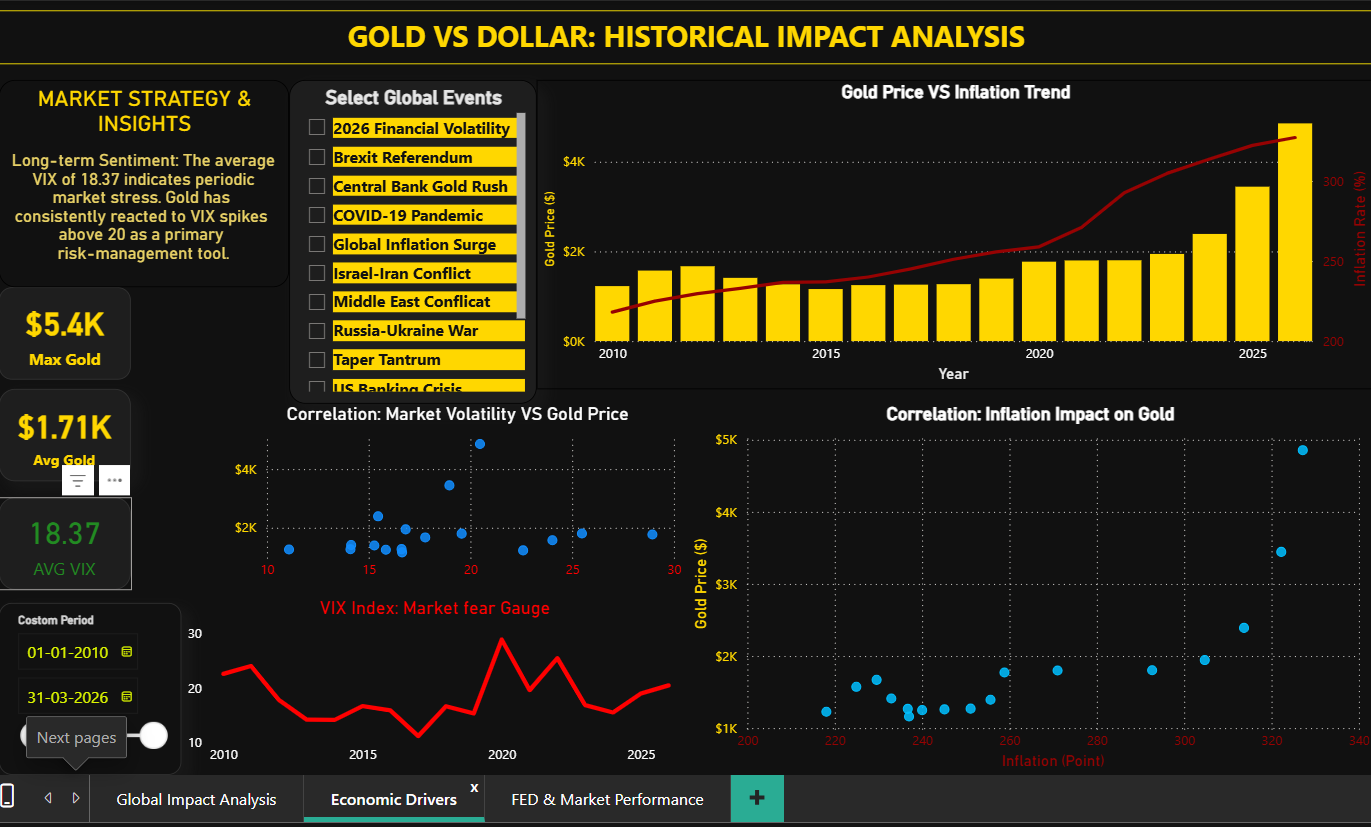

The dashboard page shown, as its layout file describes it:
{"tool":"powerbi","page":{"name":"Economic Drivers","canvas":[1280,720],"ordinal":1},"visuals":[{"type":"slicer","fields":{"Values":["Gold_Analysis_Master.Date"]},"box":[0,559.9,170,159.8],"z":0},{"type":"slicer","title":"Select Global Events","fields":{"Values":["World_Events_Master.Event_Name"]},"box":[270.1,73.4,230.3,301.2],"z":1000},{"type":"textbox","box":[0,8.9,1279.7,49.9],"z":2000},{"type":"lineStackedColumnComboChart","title":"Gold Price VS Inflation Trend","fields":{"Category":["Gold_Analysis_Master.Date.Variation.Date Hierarchy.Year","Gold_Analysis_Master.Date.Variation.Date Hierarchy.Quarter","Gold_Analysis_Master.Date.Variation.Date Hierarchy.Month","Gold_Analysis_Master.Date.Variation.Date Hierarchy.Day"],"Y":["Avg(Gold_Analysis_Master.GOLD PRICE)"],"Y2":["Avg(Gold_Analysis_Master.INFLATION)"]},"box":[500.3,73.4,779.1,287.5],"z":3000},{"type":"card","fields":{"Values":["Gold_Analysis_Master.Max Gold"]},"box":[0,265.9,122.7,85.7],"z":4000},{"type":"card","fields":{"Values":["Gold_Analysis_Master.Avg Gold"]},"box":[0,360.5,122.7,85.7],"z":5000},{"type":"scatterChart","title":"Correlation: Inflation Impact on Gold","fields":{"Category":["Gold_Analysis_Master.Date.Variation.Date Hierarchy.Year","Gold_Analysis_Master.Date.Variation.Date Hierarchy.Quarter","Gold_Analysis_Master.Date.Variation.Date Hierarchy.Month","Gold_Analysis_Master.Date.Variation.Date Hierarchy.Day"],"X":["Avg(Gold_Analysis_Master.INFLATION)"],"Y":["Avg(Gold_Analysis_Master.GOLD PRICE)"]},"box":[639.2,374.6,640.5,345.2],"z":6000},{"type":"lineChart","title":"VIX Index: Market fear Gauge","fields":{"Category":["Gold_Analysis_Master.Date.Variation.Date Hierarchy.Year","Gold_Analysis_Master.Date.Variation.Date Hierarchy.Quarter","Gold_Analysis_Master.Date.Variation.Date Hierarchy.Month","Gold_Analysis_Master.Date.Variation.Date Hierarchy.Day"],"Y":["Avg(Gold_Analysis_Master.VIX)"]},"box":[170.5,555.1,470.5,164.3],"z":7000},{"type":"scatterChart","title":"Correlation: Market Volatility VS Gold Price","fields":{"X":["Avg(Gold_Analysis_Master.VIX)"],"Y":["Avg(Gold_Analysis_Master.GOLD PRICE)"],"Category":["Gold_Analysis_Master.Date.Variation.Date Hierarchy.Year","Gold_Analysis_Master.Date.Variation.Date Hierarchy.Quarter","Gold_Analysis_Master.Date.Variation.Date Hierarchy.Month","Gold_Analysis_Master.Date.Variation.Date Hierarchy.Day"]},"box":[213.5,374.6,425.7,172.6],"z":8000},{"type":"card","fields":{"Values":["Gold_Analysis_Master.Event VIX Average"]},"box":[0,461.5,122.7,85.7],"z":9000},{"type":"card","title":"MARKET STRATEGY & INSIGHTS","fields":{"Values":["Gold_Analysis_Master.Page 2 Insights"]},"box":[0,72.9,269.7,193],"z":10000}]}

Visuals, with their boxes on the page's 1280x720 design canvas (x1, y1, x2, y2). These are canvas units, not pixel positions in the 1371x827 screenshot, which may show the page scaled, cropped or inside an application window:
slicer - Gold_Analysis_Master.Date: 0, 560, 170, 720
"Select Global Events" slicer: 270, 73, 500, 375
textbox: 0, 9, 1280, 59
"Gold Price VS Inflation Trend" lineStackedColumnComboChart: 500, 73, 1279, 361
card - Gold_Analysis_Master.Max Gold: 0, 266, 123, 352
card - Gold_Analysis_Master.Avg Gold: 0, 360, 123, 446
"Correlation: Inflation Impact on Gold" scatterChart: 639, 375, 1280, 720
"VIX Index: Market fear Gauge" lineChart: 170, 555, 641, 719
"Correlation: Market Volatility VS Gold Price" scatterChart: 214, 375, 639, 547
card - Gold_Analysis_Master.Event VIX Average: 0, 462, 123, 547
"MARKET STRATEGY & INSIGHTS" card: 0, 73, 270, 266
